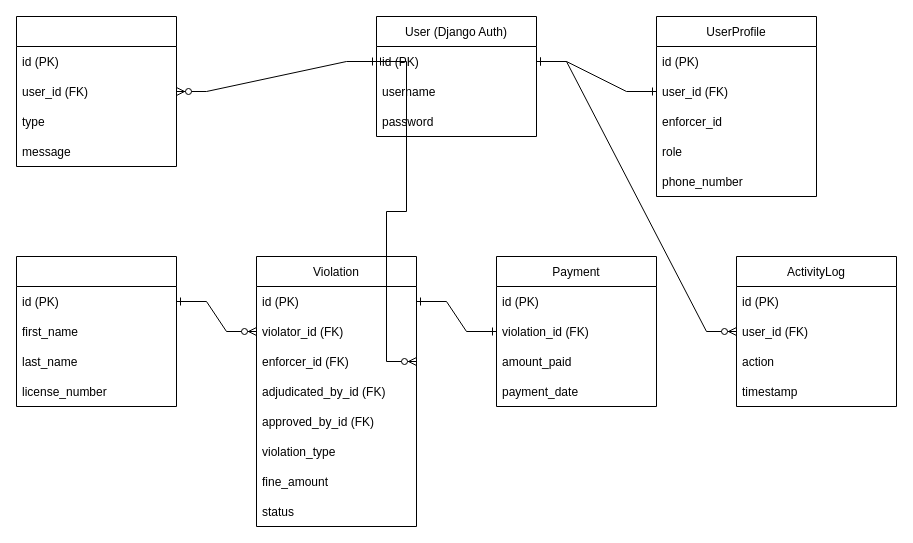
The diagram is 913 pixels wide and 543 high, and some of its shapes have lost their labels. Here are the shapes that lost their labels. From the top down, the box of each, then its label:
(16, 16, 176, 166): UserNotification
(16, 256, 176, 406): Violator
